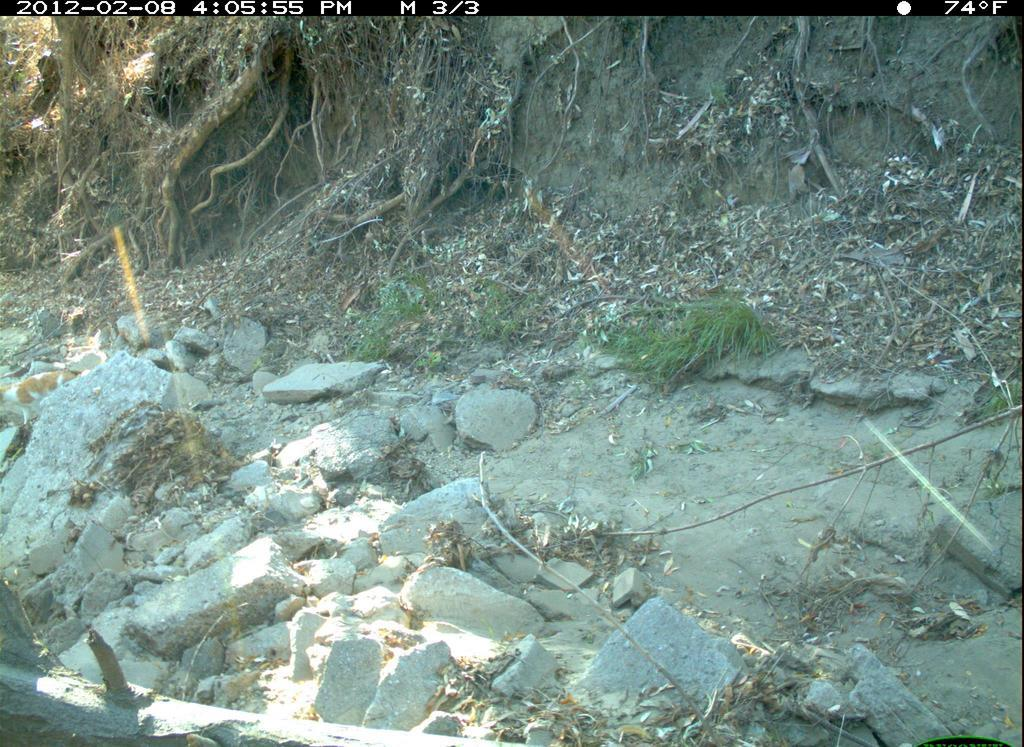cat: (6, 358, 99, 432)
